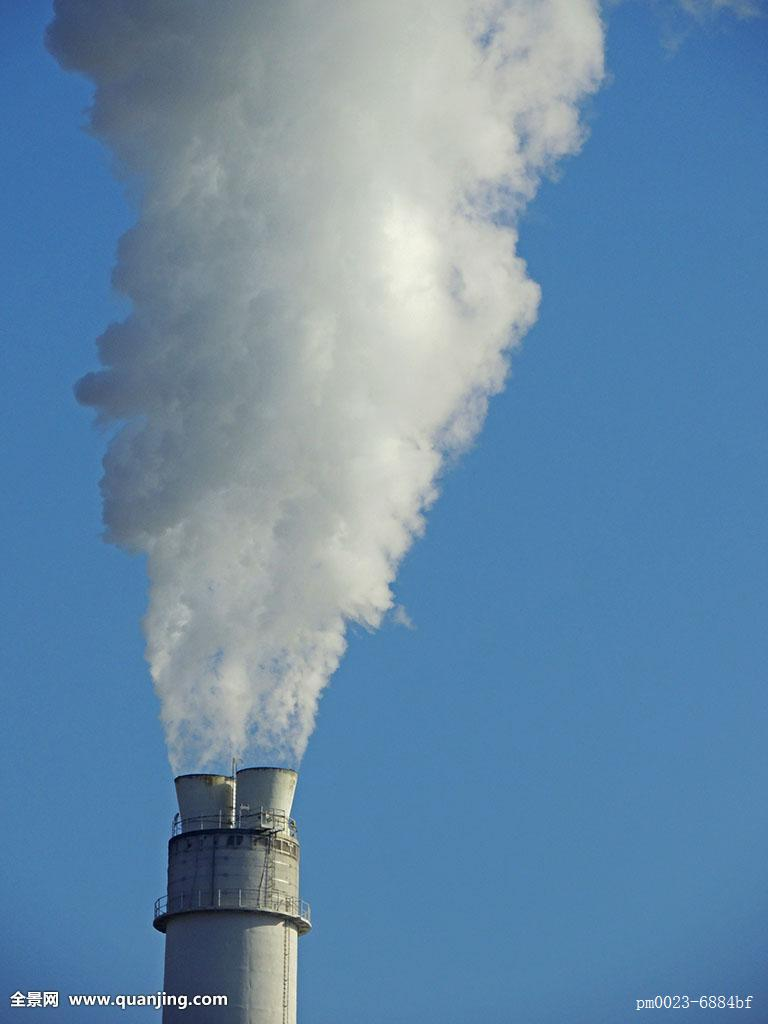dust: (85, 75, 535, 850)
